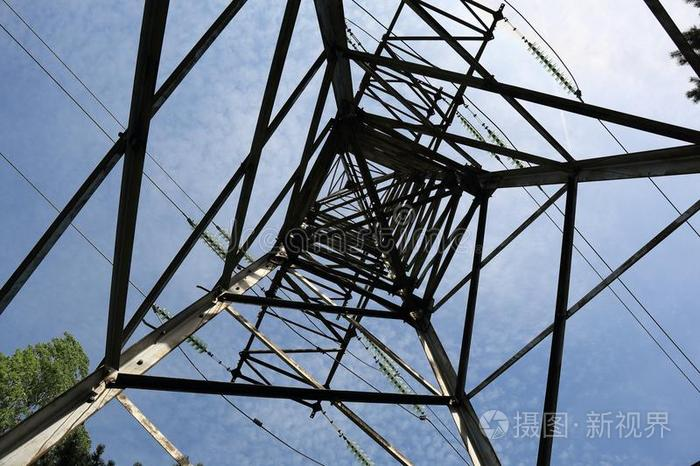insulator: (526, 39, 577, 91)
